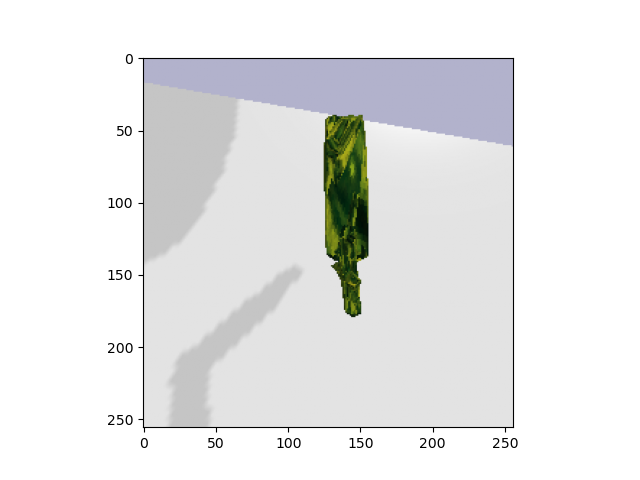v249b387_108: (315, 110, 385, 327)
